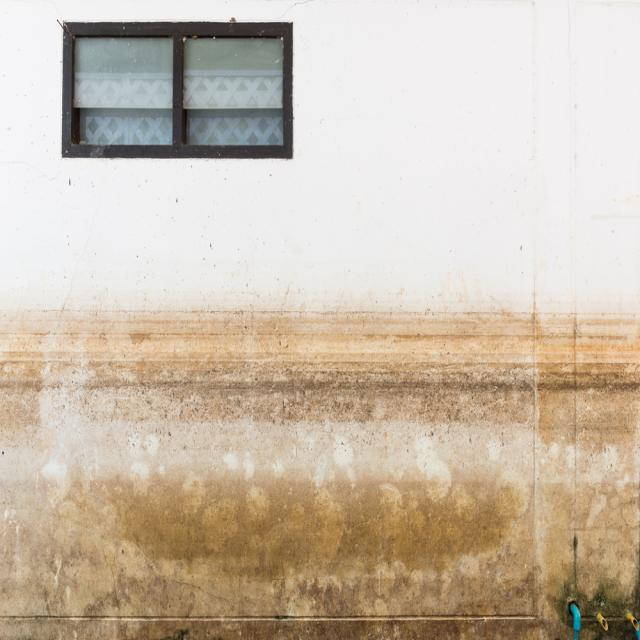Water_Leakage: (6, 246, 638, 640)
